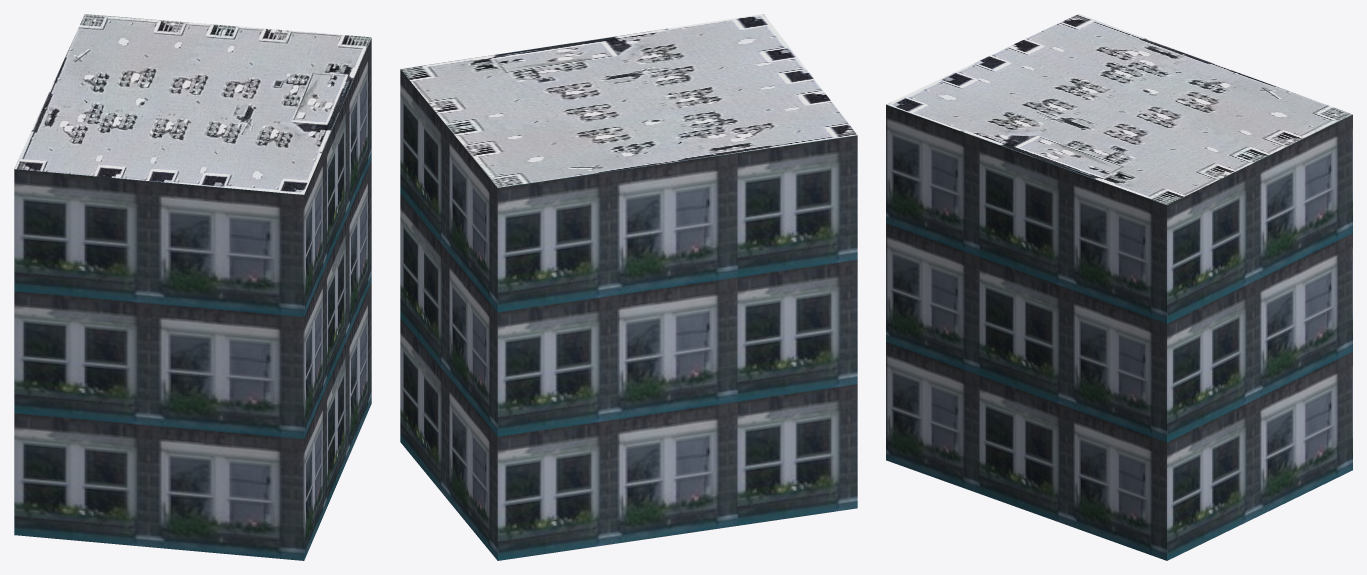
File: ResTex__240.fbx
3 views of the same model, side by side, from view 1: azimuth 30°, elevation 25°; view 2: azimuth 150°, elevation 25°; view 3: azimuth 270°, elevation 25° (orthographic). The views are drawn at different scales.
Parts seen in each view (by area): view 1: CityEngineMaterial_11_m, CityEngineMaterial_2_m; view 2: CityEngineMaterial_11_m, CityEngineMaterial_2_m; view 3: CityEngineMaterial_11_m, CityEngineMaterial_2_m.
Part boxes in pixels (x1,y1,x2,y2): CityEngineMaterial_11_m: (14, 38, 371, 560); CityEngineMaterial_2_m: (14, 14, 371, 194); CityEngineMaterial_11_m: (400, 69, 857, 560); CityEngineMaterial_2_m: (400, 14, 857, 187); CityEngineMaterial_11_m: (886, 104, 1352, 560); CityEngineMaterial_2_m: (886, 14, 1352, 204).
Bounding box in the file's own units: 10.38 × 9 × 10.71.
2 materials, 2 textured.
